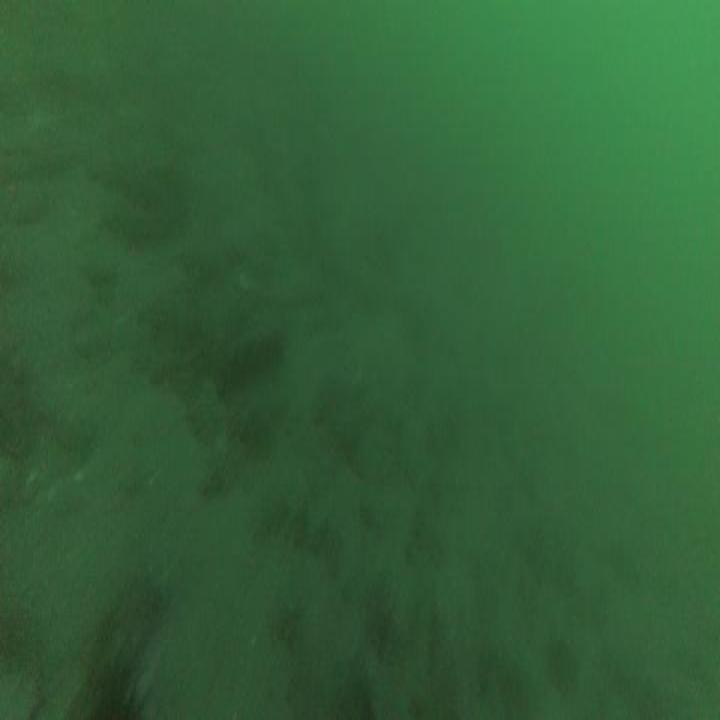holothurian: (215, 320, 280, 389)
